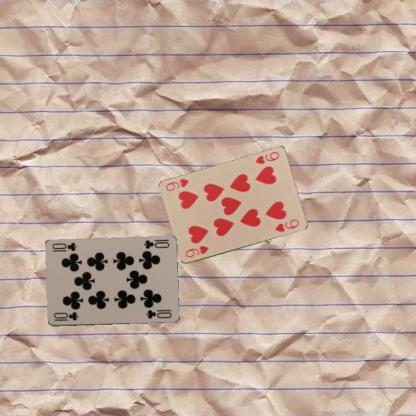10c: (141, 237, 170, 250), (51, 310, 79, 322)
9h: (253, 149, 280, 166), (182, 243, 210, 259)
